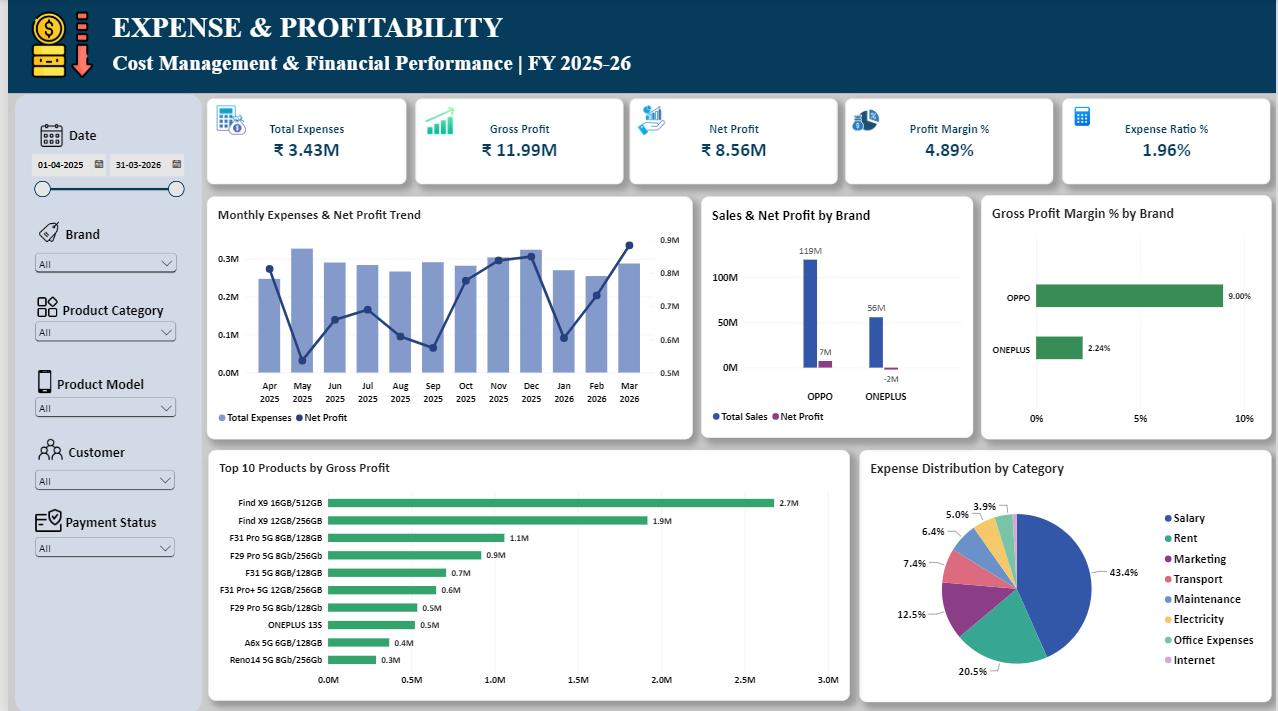

The dashboard page shown, as its layout file describes it:
{"tool":"powerbi","page":{"name":"Expense & Profitability","canvas":[1920,1080],"ordinal":4},"visuals":[{"type":"shape","box":[9.9,143.7,283.1,936.6],"z":0},{"type":"actionButton","box":[0,0,100,40],"z":1000},{"type":"cardVisual","fields":{"Data":["Customers.Total Expenses"]},"box":[302,150,302,130],"z":2000},{"type":"cardVisual","fields":{"Data":["Customers.Gross Profit"]},"box":[617.1,150.5,315,130],"z":3000},{"type":"cardVisual","fields":{"Data":["Customers.Net Profit"]},"box":[942,150,315,130],"z":4000},{"type":"cardVisual","fields":{"Data":["Customers.Profit Margin %"]},"box":[1268,150,315,130],"z":5000},{"type":"cardVisual","fields":{"Data":["Customers.Expense Ratio %"]},"box":[1596,150,315,130],"z":6000},{"type":"slicer","title":"Date","fields":{"Values":["DateTable.Date"]},"box":[8,226,282,94],"z":7000},{"type":"slicer","title":"Brand","fields":{"Values":["Products.Brand"]},"box":[36.9,378.4,224,40],"z":8000},{"type":"image","box":[38.8,335,47.7,35.1],"z":9000},{"type":"textbox","box":[85.9,342.4,62.6,27.3],"z":10000},{"type":"image","box":[37.5,186.2,56,40],"z":11000},{"type":"textbox","box":[82.5,193.8,65,32.5],"z":12000},{"type":"slicer","title":"Brand","fields":{"Values":["Products.Category"]},"box":[35.1,483.8,223.8,47.6],"z":13000},{"type":"image","box":[35.1,449.5,46.8,34.2],"z":14000},{"type":"image","box":[33.3,561.3,44.1,35.1],"z":15000},{"type":"image","box":[42.5,663.8,44.1,36.9],"z":16000},{"type":"image","box":[30,768.8,62.5,40],"z":17000},{"type":"textbox","box":[82,456.8,164,27],"z":18000},{"type":"slicer","title":"Brand","fields":{"Values":["Products.Product_Model"]},"box":[35.1,598.2,223.4,42.3],"z":19000},{"type":"textbox","box":[73.9,569.4,136,27],"z":20000},{"type":"slicer","title":"Brand","fields":{"Values":["Customers.Customer_Name"]},"box":[36.9,707.2,221.6,42.3],"z":21000},{"type":"textbox","box":[86.2,673.8,100,33.8],"z":22000},{"type":"slicer","title":"Brand","fields":{"Values":["Sales_Invoices.Payment_Status"]},"box":[35,808.8,221.6,42.3],"z":23000},{"type":"textbox","box":[86.9,780.8,143.4,28.3],"z":24000},{"type":"image","box":[311.7,161.7,53,44.3],"z":25000},{"type":"image","box":[627.2,162.1,53.4,43.7],"z":26000},{"type":"image","box":[949.5,161.2,49.5,44.7],"z":27000},{"type":"shape","box":[0,0,1920,142.5],"z":28000},{"type":"textbox","box":[7.5,20,1260,100],"z":29000},{"type":"image","box":[26.7,20,110,100],"z":30000},{"type":"lineClusteredColumnComboChart","title":"Monthly Expenses & Net Profit Trend","fields":{"Category":["DateTable.FY Month"],"Y":["Customers.Total Expenses"],"Y2":["Customers.Net Profit"]},"box":[302,298,736,368],"z":31000},{"type":"pieChart","title":"Expense Distribution by Category","fields":{"Category":["Expenses.Expense_Category"],"Y":["Customers.Total Expenses"]},"box":[1287.9,681.8,624.2,381.8],"z":32000},{"type":"clusteredColumnChart","title":"Sales & Net Profit by Brand","fields":{"Category":["Products.Brand"],"Y":["Customers.Total Sales","Customers.Net Profit"]},"box":[1050,298,412,366],"z":33000},{"type":"clusteredBarChart","title":"Top 10 Products by Gross Profit","fields":{"Category":["Products.Product_Model"],"Y":["Customers.Gross Profit"]},"box":[302,682.8,971.7,379.8],"z":34000},{"type":"clusteredBarChart","title":"Gross Profit Margin % by Brand","fields":{"Category":["Products.Brand"],"Y":["Customers.Gross Profit Margin %"]},"box":[1472,296,440,370],"z":35000},{"type":"image","box":[1273.8,161.2,49.5,44.7],"z":35001},{"type":"image","box":[1603.9,161.2,43.7,33],"z":35002}]}

Visuals, with their boxes in screenshot pixels (x1, y1, x2, y2), scaled from the page's 1920x1080 canvas onto the 1278x711 screenshot:
shape: l=7, t=95, r=195, b=710
actionButton: l=0, t=0, r=67, b=26
cardVisual - Customers.Total Expenses: l=201, t=99, r=402, b=184
cardVisual - Customers.Gross Profit: l=411, t=99, r=620, b=185
cardVisual - Customers.Net Profit: l=627, t=99, r=837, b=184
cardVisual - Customers.Profit Margin %: l=844, t=99, r=1054, b=184
cardVisual - Customers.Expense Ratio %: l=1062, t=99, r=1272, b=184
"Date" slicer: l=5, t=149, r=193, b=211
"Brand" slicer: l=25, t=249, r=174, b=275
image: l=26, t=221, r=58, b=244
textbox: l=57, t=225, r=99, b=243
image: l=25, t=123, r=62, b=149
textbox: l=55, t=128, r=98, b=149
"Brand" slicer: l=23, t=319, r=172, b=350
image: l=23, t=296, r=55, b=318
image: l=22, t=370, r=52, b=393
image: l=28, t=437, r=58, b=461
image: l=20, t=506, r=62, b=532
textbox: l=55, t=301, r=164, b=319
"Brand" slicer: l=23, t=394, r=172, b=422
textbox: l=49, t=375, r=140, b=393
"Brand" slicer: l=25, t=466, r=172, b=493
textbox: l=57, t=444, r=124, b=466
"Brand" slicer: l=23, t=532, r=171, b=560
textbox: l=58, t=514, r=153, b=533
image: l=207, t=106, r=243, b=136
image: l=417, t=107, r=453, b=135
image: l=632, t=106, r=665, b=136
shape: l=0, t=0, r=1277, b=94
textbox: l=5, t=13, r=844, b=79
image: l=18, t=13, r=91, b=79
"Monthly Expenses & Net Profit Trend" lineClusteredColumnComboChart: l=201, t=196, r=691, b=438
"Expense Distribution by Category" pieChart: l=857, t=449, r=1273, b=700
"Sales & Net Profit by Brand" clusteredColumnChart: l=699, t=196, r=973, b=437
"Top 10 Products by Gross Profit" clusteredBarChart: l=201, t=450, r=848, b=700
"Gross Profit Margin % by Brand" clusteredBarChart: l=980, t=195, r=1273, b=438
image: l=848, t=106, r=881, b=136
image: l=1068, t=106, r=1097, b=128
